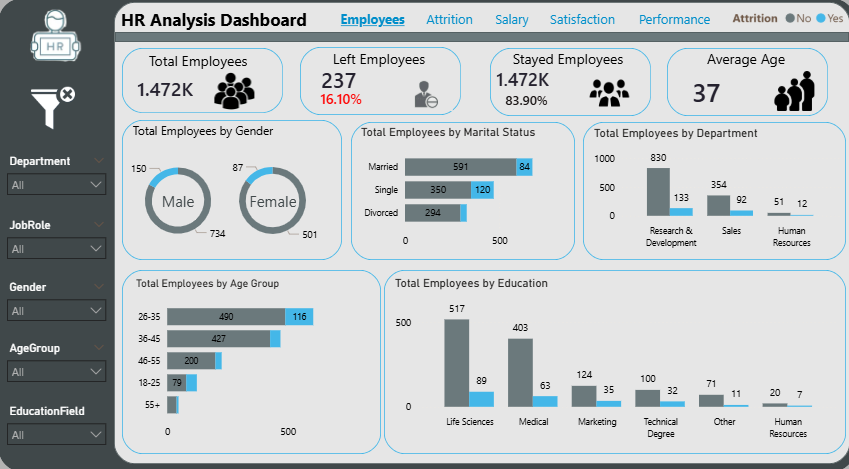

This screenshot's page, from the dashboard's own definition file:
{"tool":"powerbi","page":{"name":"Employees","canvas":[1070,590],"ordinal":0},"visuals":[{"type":"shape","box":[0,0,1070,590],"z":0},{"type":"shape","box":[143.8,3.8,920,577.5],"z":1000},{"type":"shape","box":[481.2,338.8,577.5,230],"z":2000},{"type":"shape","box":[153.8,151.2,275,175],"z":3000},{"type":"shape","box":[153.8,338.8,323.8,230],"z":4000},{"type":"barChart","title":"Total Employees by Age Group ","fields":{"Category":["dim_employee.AgeGroup"],"Y":["_measures table.Total Employees"],"Series":["Fact_employee.Attrition"]},"box":[166.2,347.5,300,211.2],"z":5000},{"type":"donutChart","fields":{"Y":["_measures table.male employess"],"Category":["Fact_employee.Attrition"]},"box":[153.8,182.5,140,138.8],"z":6000},{"type":"textbox","title":"  HR  Analytics","box":[138.8,0,271.2,47.5],"z":7000},{"type":"image","box":[11.2,10,117.5,70],"z":8000},{"type":"shape","box":[145,41.2,917.5,12.5],"z":9000},{"type":"shape","box":[835,61.2,201.2,85],"z":10000},{"type":"shape","box":[376.2,60,201.2,85],"z":11000},{"type":"shape","box":[153.8,61.2,201.2,81.2],"z":12000},{"type":"shape","box":[613.8,61.2,201.2,85],"z":13000},{"type":"cardVisual","fields":{"Data":["_measures table.Attrition Rate"]},"box":[372.5,93.8,117.5,57.5],"z":14000},{"type":"cardVisual","fields":{"Data":["_measures table.Retention Rate"]},"box":[603.8,100,123.8,51.2],"z":15000},{"type":"cardVisual","fields":{"Data":["_measures table.Total_Employees"]},"box":[143.8,76.2,146.2,68.8],"z":16000},{"type":"donutChart","fields":{"Category":["Fact_employee.Attrition"],"Y":["_measures table.female employess"]},"box":[255,190,173.8,123.8],"z":17000},{"type":"shape","box":[186.2,236.2,75,32.5],"z":18000},{"type":"shape","box":[312.5,236.2,60,32.5],"z":19000},{"type":"shape","box":[730,153.8,328.8,172.5],"z":20000},{"type":"shape","box":[160,153.8,190,20],"z":21000},{"type":"image","box":[915,10,141.2,28.8],"z":22000},{"type":"shape","box":[440,153.8,280,172.5],"z":23000},{"type":"barChart","title":"Total Employees by Marital Status","fields":{"Category":["dim_employee.MaritalStatus"],"Y":["_measures table.Total Employees"],"Series":["Fact_employee.Attrition"]},"box":[447.5,158.8,263.8,161.2],"z":24000},{"type":"clusteredColumnChart","title":"Total Employees by Education","fields":{"Category":["dim_education field.EducationField"],"Y":["_measures table.Total Employees"],"Series":["Fact_employee.Attrition"]},"box":[490,347.5,565,211.2],"z":25000},{"type":"clusteredColumnChart","title":"Total Employees by Department","fields":{"Y":["_measures table.Total Employees"],"Series":["Fact_employee.Attrition"],"Category":["dim_department.Department"]},"box":[738.8,160,317.5,160],"z":26000},{"type":"cardVisual","fields":{"Data":["_measures table.total attrition employees"]},"box":[373.8,65,103.8,67.5],"z":27000},{"type":"cardVisual","fields":{"Data":["_measures table.Avg Age Stayed"]},"box":[837.5,80,98.8,68.8],"z":28000},{"type":"slicer","fields":{"Values":["dim_employee.Gender"]},"box":[0,347.5,143.8,66.2],"z":29000},{"type":"slicer","fields":{"Values":["dim_department.Department"]},"box":[0,190,143.8,56.2],"z":30000},{"type":"slicer","fields":{"Values":["dim_employee.AgeGroup"]},"box":[0,423.8,143.8,58.8],"z":31000},{"type":"slicer","fields":{"Values":["dim_job role.JobRole"]},"box":[0,270,143.8,56.2],"z":32000},{"type":"slicer","fields":{"Values":["dim_education field.EducationField"]},"box":[0,502.5,143.8,56.2],"z":33000},{"type":"image","box":[25,108.8,85,55],"z":34000},{"type":"shape","box":[411.2,8.8,111.2,33.8],"z":35000},{"type":"shape","box":[522.5,8.8,81.2,33.8],"z":36000},{"type":"shape","box":[608.8,8.8,65,32.5],"z":37000},{"type":"shape","box":[673.8,8.8,111.2,32.5],"z":38000},{"type":"shape","box":[788.8,5,111.2,38.8],"z":39000},{"type":"image","box":[491.2,90,86.2,50],"z":42000},{"type":"image","box":[251.2,90,86.2,50],"z":43000},{"type":"cardVisual","fields":{"Data":["_measures table.Total_Employees"]},"box":[592.5,65,137.5,68.8],"z":45000},{"type":"image","box":[720,92.5,86.2,50],"z":46000},{"type":"shape","box":[160,60,177.5,33.8],"z":46001},{"type":"shape","box":[386.2,57.5,177.5,32.5],"z":46002},{"type":"shape","box":[622.5,57.5,177.5,32.5],"z":46003},{"type":"shape","box":[845,57.5,177.5,32.5],"z":46004},{"type":"image","box":[951.2,90,86.2,50],"z":46005}]}

Visuals, with their boxes in screenshot pixels (x1, y1, x2, y2), scaled from the page's 1070x590 canvas onto the 849x469 screenshot:
shape: [0,0,848,468]
shape: [114,3,844,462]
shape: [382,269,840,452]
shape: [122,120,340,259]
shape: [122,269,379,452]
"Total Employees by Age Group " barChart: [132,276,370,444]
donutChart - _measures table.male employess x Fact_employee.Attrition: [122,145,233,255]
"  HR  Analytics" textbox: [110,0,325,38]
image: [9,8,102,64]
shape: [115,33,843,43]
shape: [663,49,822,116]
shape: [298,48,458,115]
shape: [122,49,282,113]
shape: [487,49,647,116]
cardVisual - _measures table.Attrition Rate: [296,75,389,120]
cardVisual - _measures table.Retention Rate: [479,79,577,120]
cardVisual - _measures table.Total_Employees: [114,61,230,115]
donutChart - Fact_employee.Attrition x _measures table.female employess: [202,151,340,249]
shape: [148,188,207,214]
shape: [248,188,296,214]
shape: [579,122,840,259]
shape: [127,122,278,138]
image: [726,8,838,31]
shape: [349,122,571,259]
"Total Employees by Marital Status" barChart: [355,126,564,254]
"Total Employees by Education" clusteredColumnChart: [389,276,837,444]
"Total Employees by Department" clusteredColumnChart: [586,127,838,254]
cardVisual - _measures table.total attrition employees: [297,52,379,105]
cardVisual - _measures table.Avg Age Stayed: [665,64,743,118]
slicer - dim_employee.Gender: [0,276,114,329]
slicer - dim_department.Department: [0,151,114,196]
slicer - dim_employee.AgeGroup: [0,337,114,384]
slicer - dim_job role.JobRole: [0,215,114,259]
slicer - dim_education field.EducationField: [0,399,114,444]
image: [20,86,87,130]
shape: [326,7,415,34]
shape: [415,7,479,34]
shape: [483,7,535,33]
shape: [535,7,623,33]
shape: [626,4,714,35]
image: [390,72,458,111]
image: [199,72,268,111]
cardVisual - _measures table.Total_Employees: [470,52,579,106]
image: [571,74,640,113]
shape: [127,48,268,75]
shape: [306,46,447,72]
shape: [494,46,635,72]
shape: [670,46,811,72]
image: [755,72,823,111]
